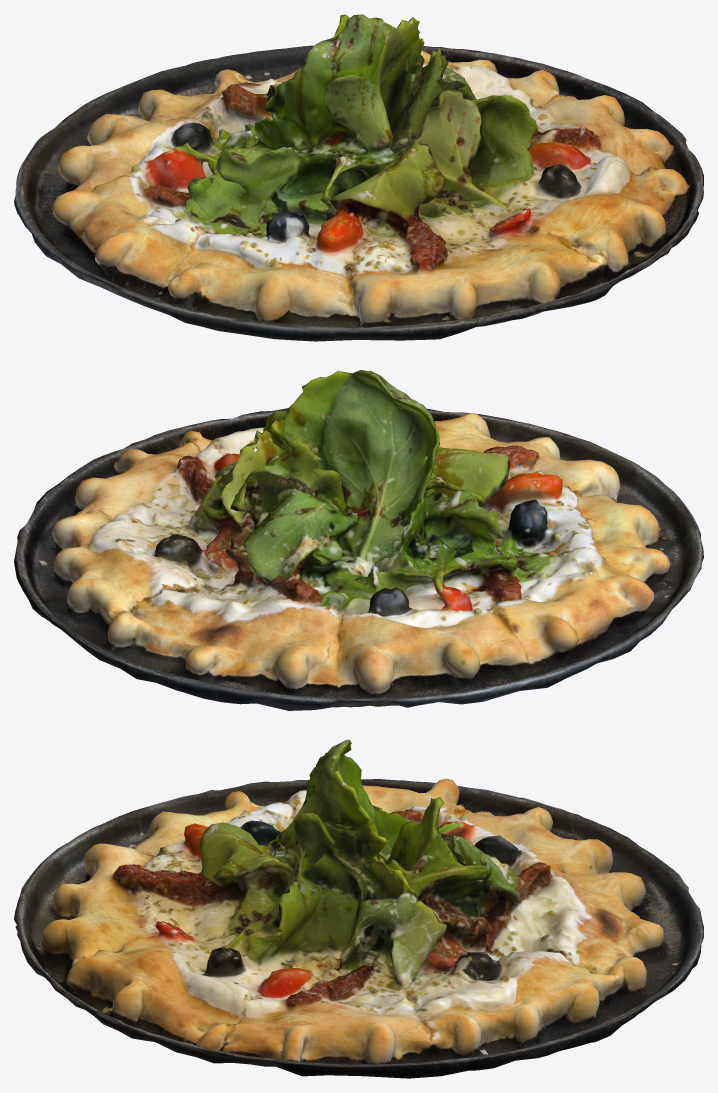
Rendered from manageeshLabnehandRocca.glb.
3 views of the same model, one above another, from view 1: azimuth 30°, elevation 25°; view 2: azimuth 150°, elevation 25°; view 3: azimuth 270°, elevation 25° (orthographic).
Parts seen in each view (by area): view 1: ObjectCapture; view 2: ObjectCapture; view 3: ObjectCapture.
Part boxes in pixels (x1,y1,x2,y2): ObjectCapture: (14, 14, 703, 341); ObjectCapture: (14, 370, 703, 710); ObjectCapture: (14, 739, 703, 1078).
Size of the model in its own units: 0.3039 by 0.1007 by 0.3057.
1 material, 1 textured.
